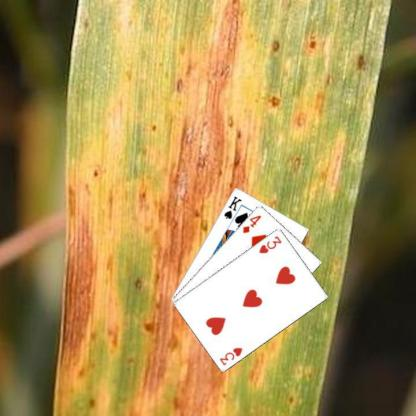3H: (217, 344, 244, 366), (257, 233, 283, 255)
4D: (240, 212, 262, 234)
KS: (221, 193, 243, 220)
